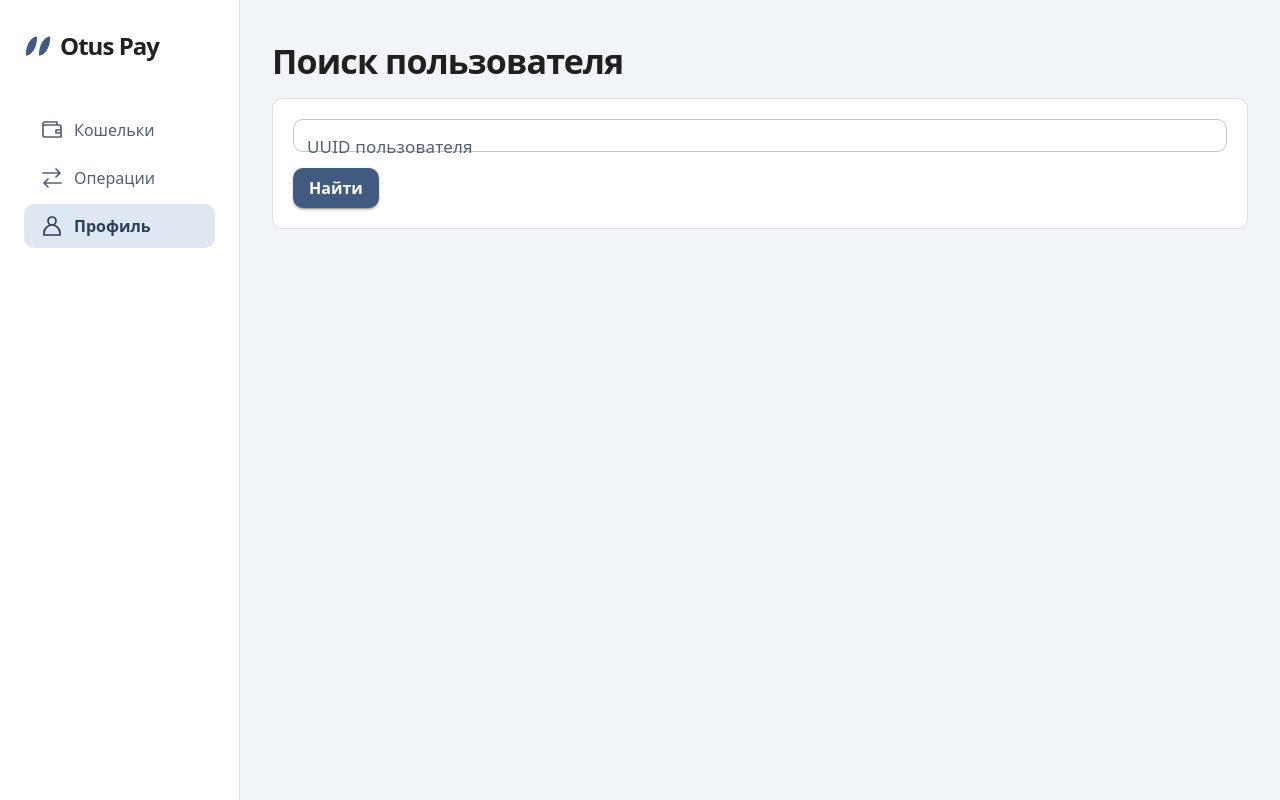
ProfilePage › revokes the refreshed session from the profile and opens the default page for the next account
Expected: the field labelled "UUID пользователя" is shown, x1=293 y1=119 x2=1227 y2=152
Expected: the button "Выйти" is not shown
Click the link "Профиль" at (120, 226), box x1=24 y1=204 x2=215 y2=248
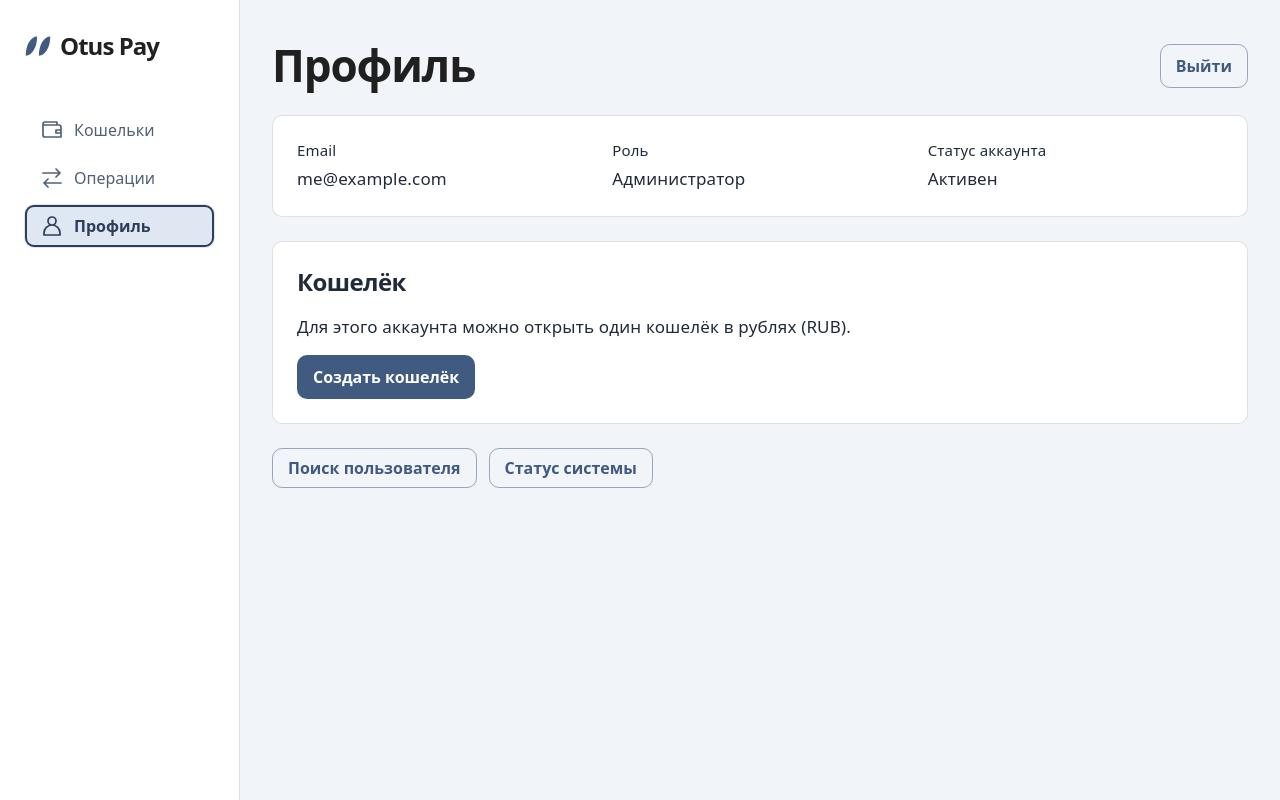
Click the button "Выйти" at (1204, 66), box x1=1160 y1=44 x2=1248 y2=88
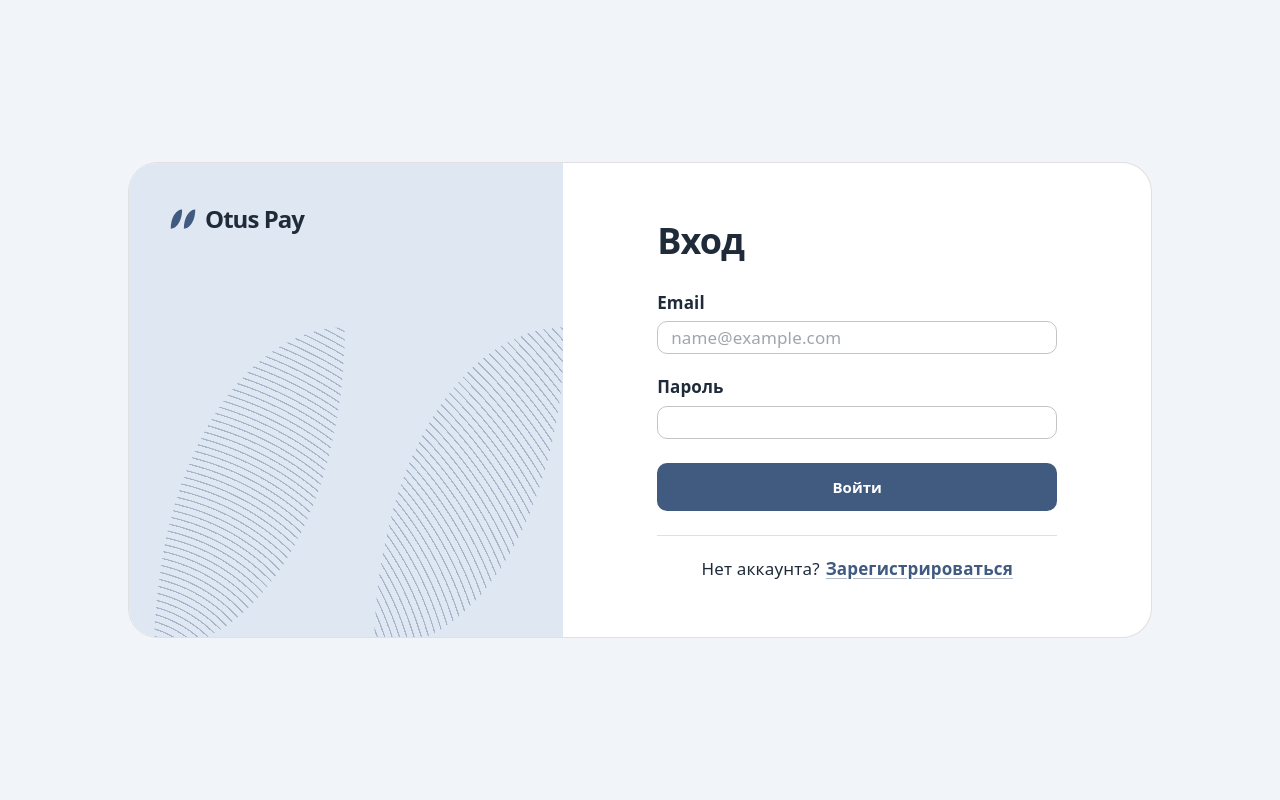
Result: the heading "Вход" is shown at x1=657 y1=216 x2=744 y2=265
Type "next@example.test" into the field labelled "Email" at (857, 338), box x1=657 y1=321 x2=1057 y2=354
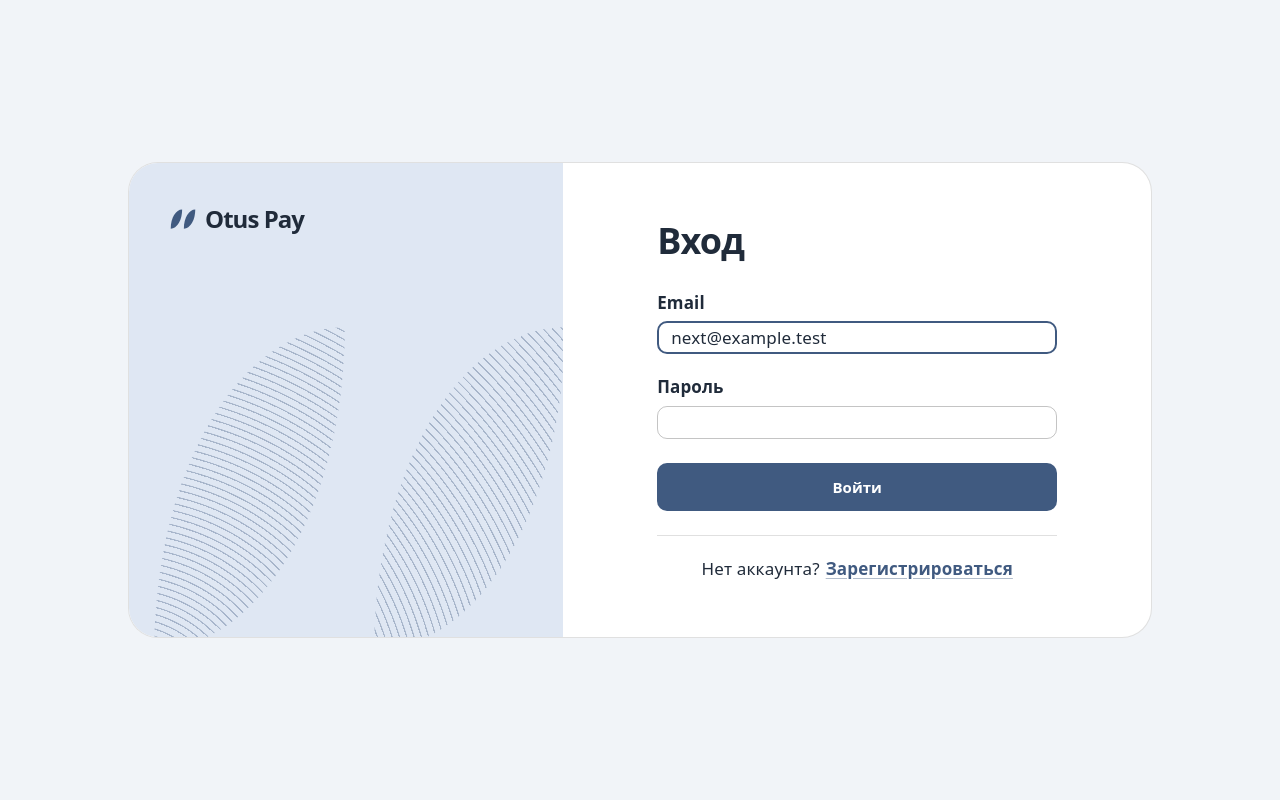
Type "test-password" into the password field labelled "Пароль" at (857, 422), box x1=657 y1=406 x2=1057 y2=439
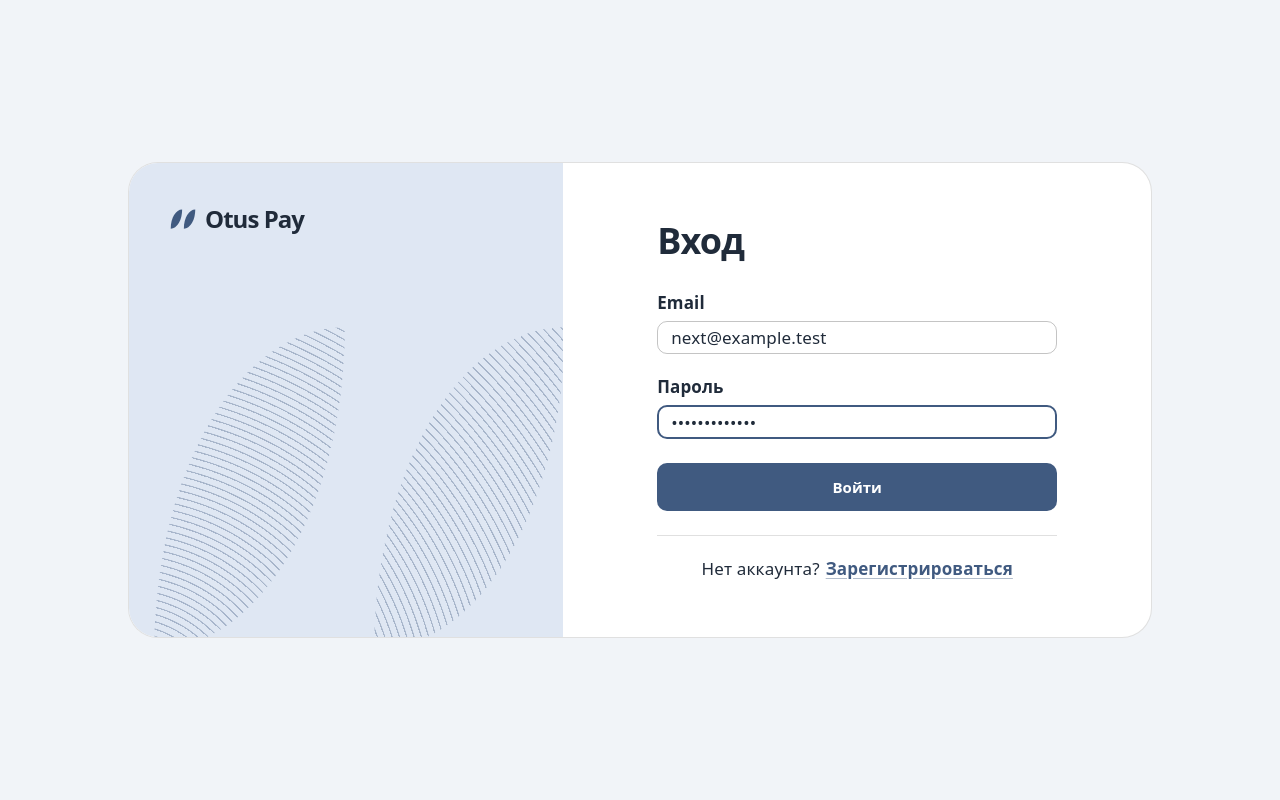
Click the button "Войти" at (857, 487), box x1=657 y1=463 x2=1057 y2=511
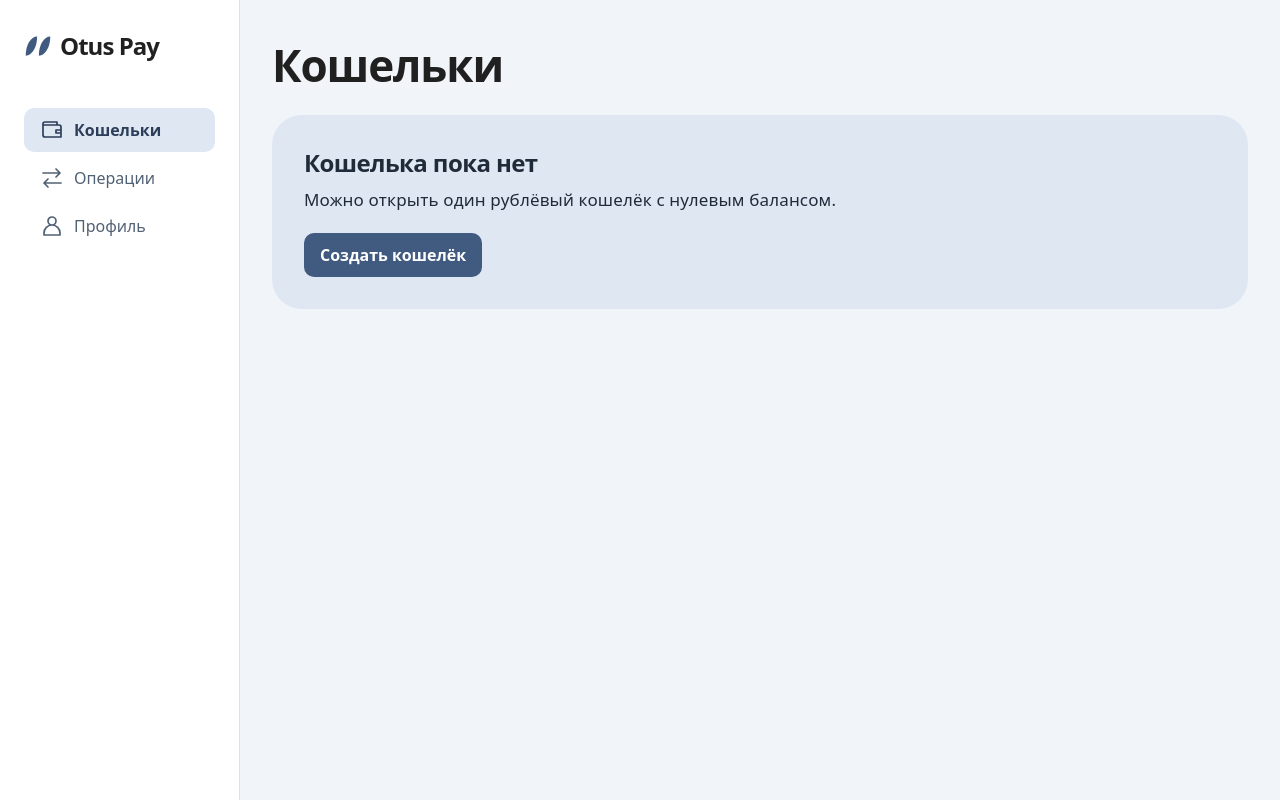
Result: the heading "Кошельки" is shown at x1=272 y1=40 x2=503 y2=91
